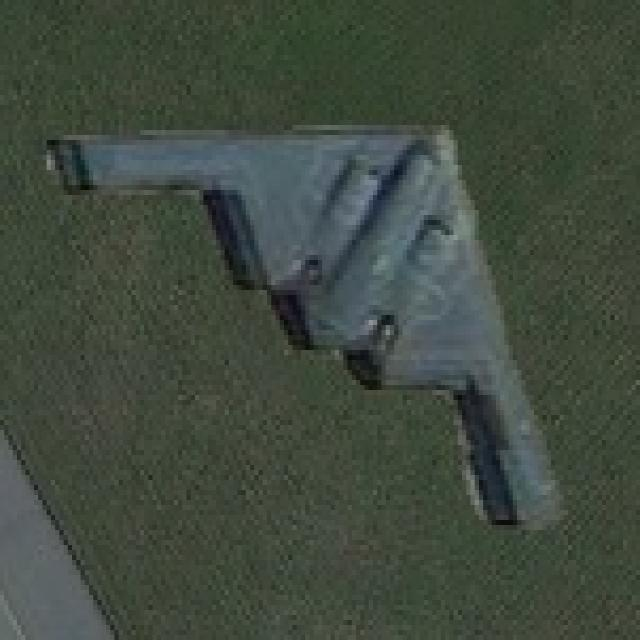B-2_TopDown: (38, 105, 572, 540)
